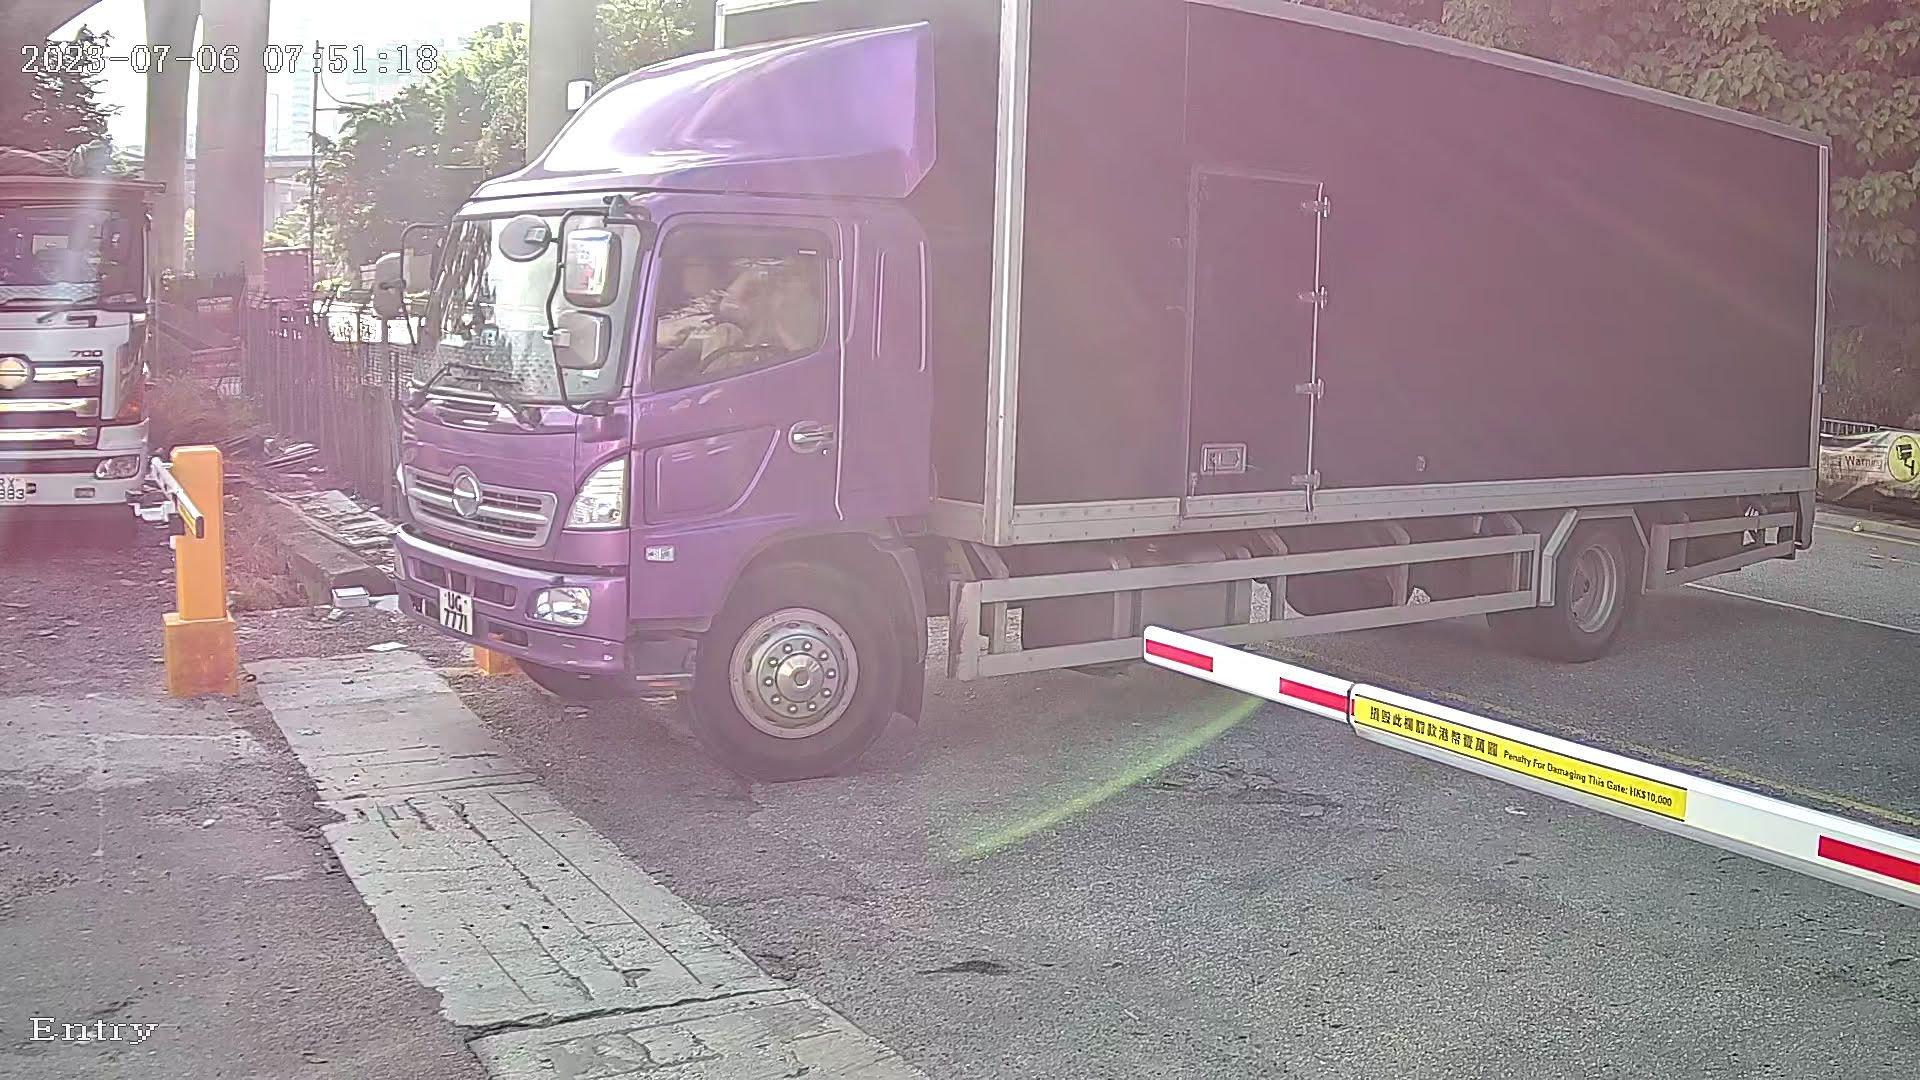truck_large: (349, 1, 1873, 802)
